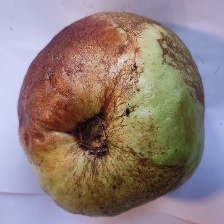guava: (7, 33, 201, 200)
